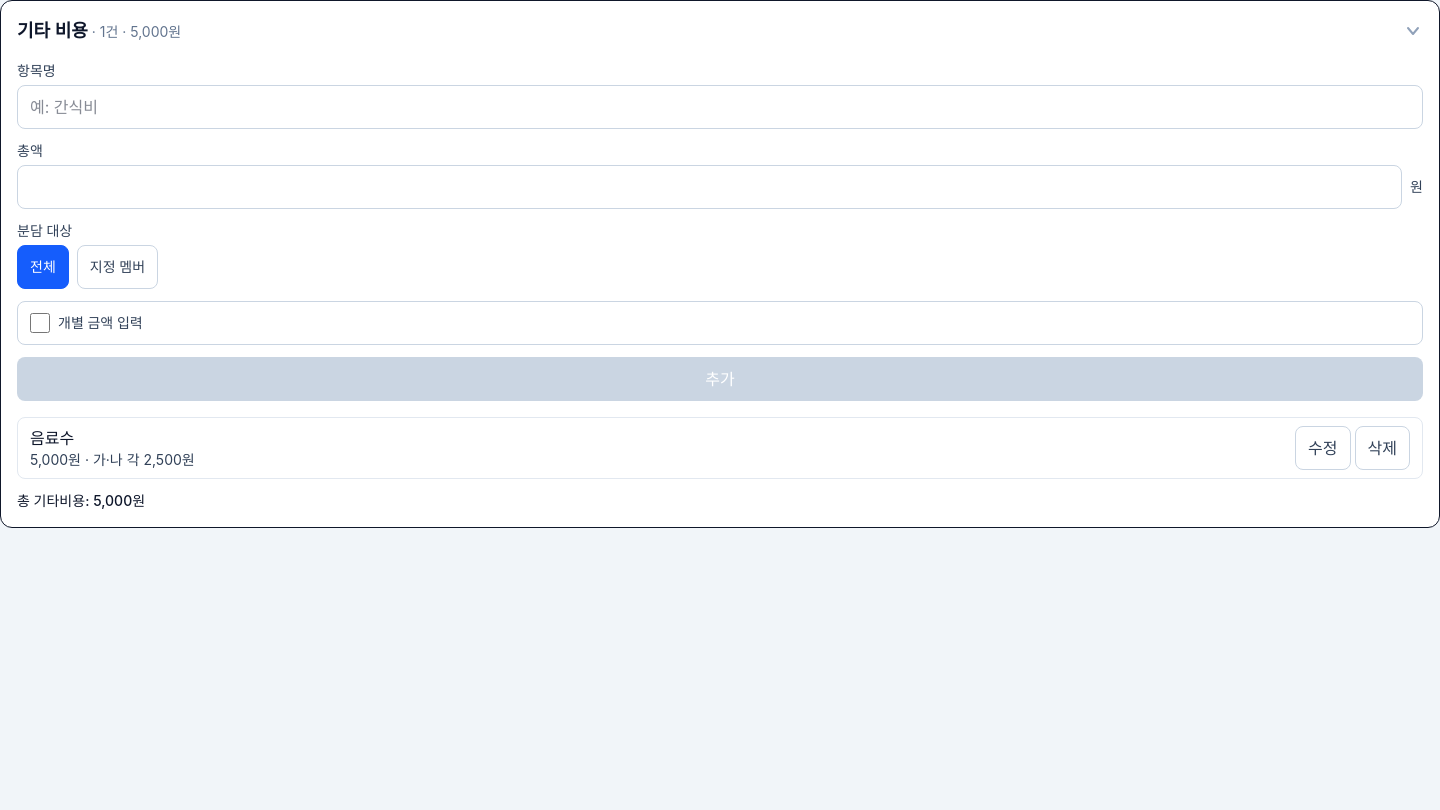
Test: ExtraCosts › 추가한 항목 수정 › 금액을 0으로 만들면 그 사람은 항목에서 빠진다
Click the button with aria-label "음료수 금액 수정": (1323, 448) 1295,426 -> 1351,470
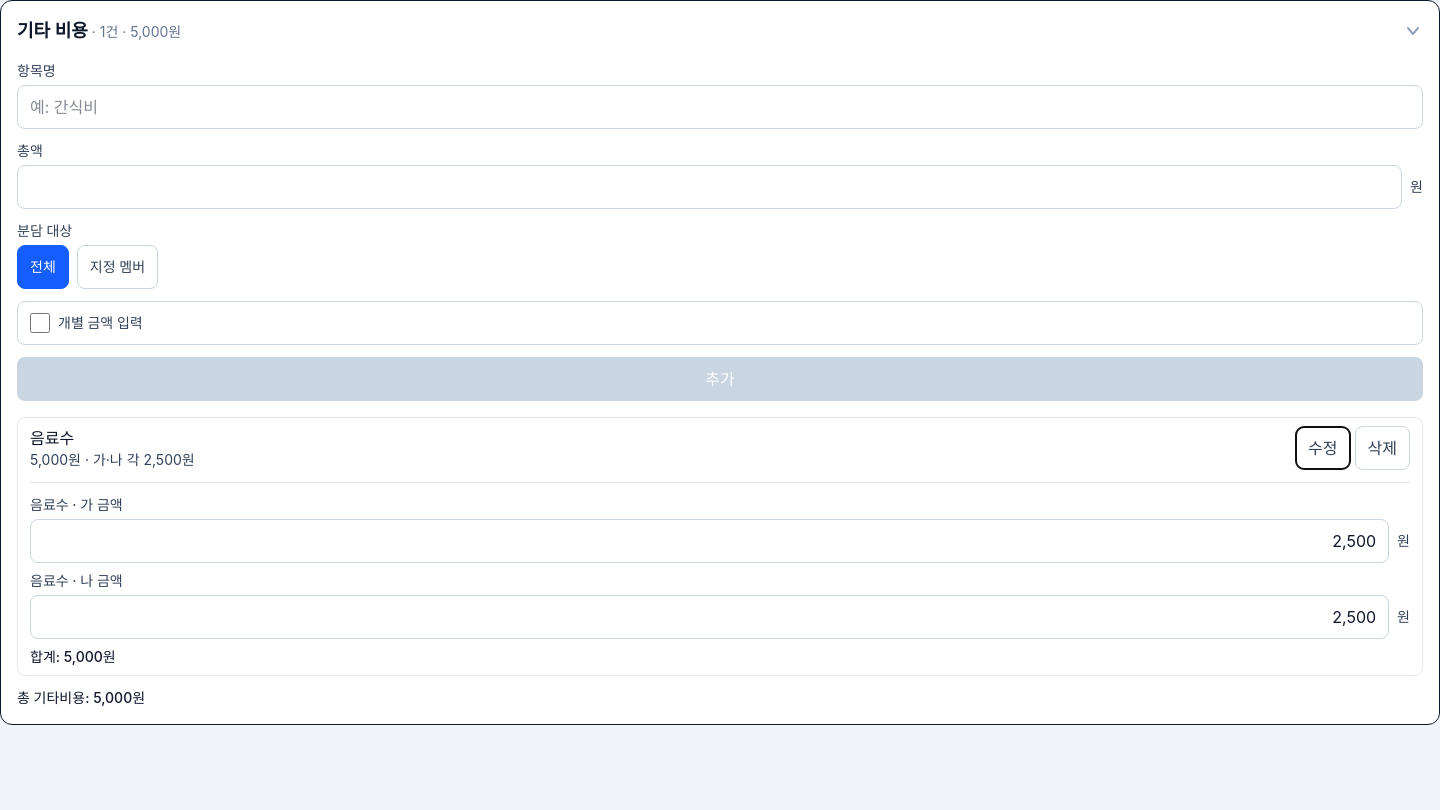
Clear the field labelled "음료수 · 나 금액": (710, 617) 30,595 -> 1389,639
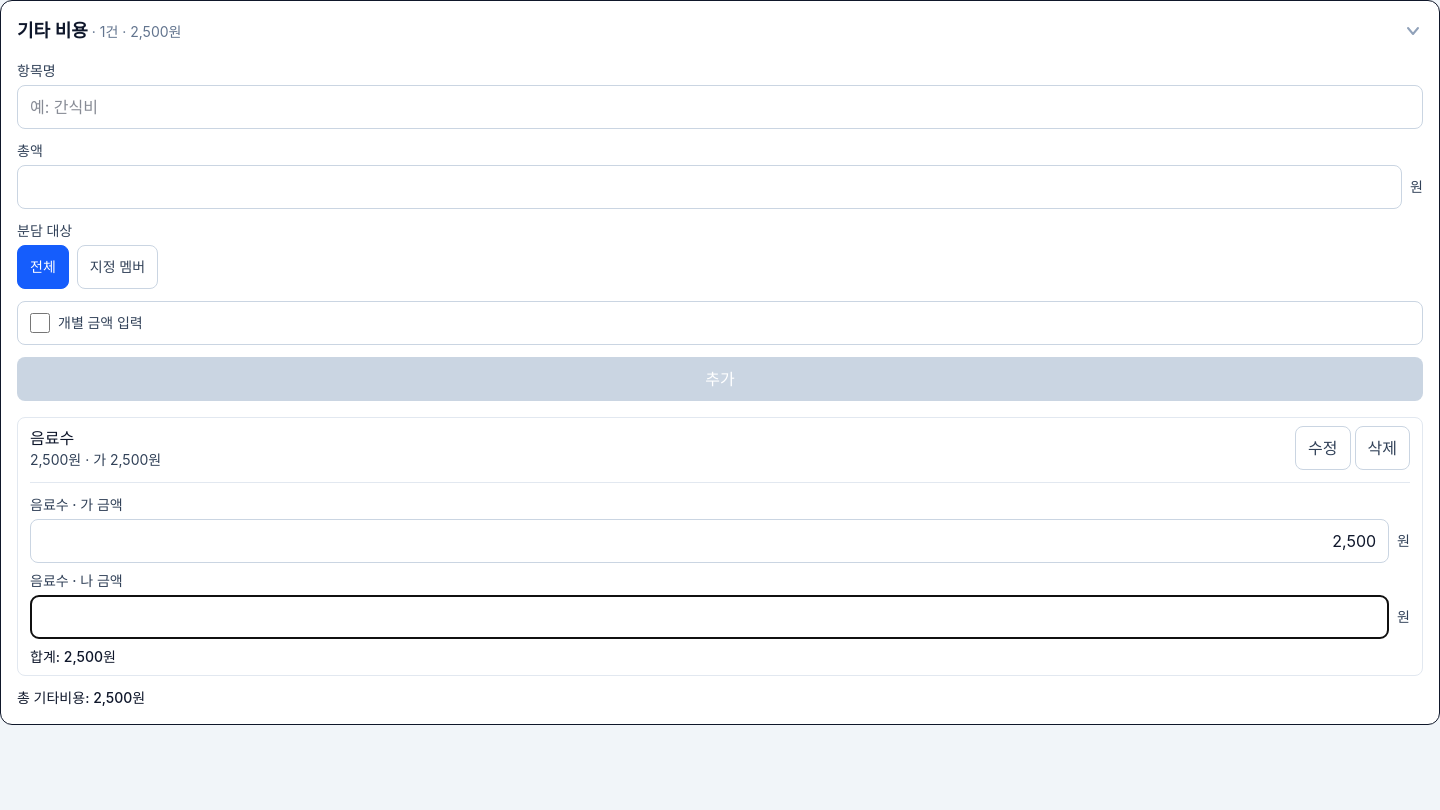
Now the text "2,500원 · 가 2,500원" is shown, box 30,451 -> 161,468
